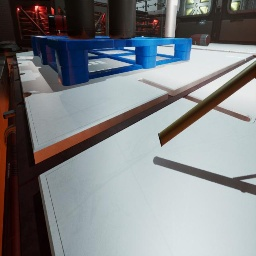0: (164, 0, 178, 38), (107, 0, 109, 37), (141, 36, 145, 37)
FireExtinguisher ]: (48, 14, 68, 36), (189, 38, 192, 44)
FirstAidBox ,: (145, 10, 147, 12)
NitrogenTank ,: (64, 0, 96, 39), (108, 0, 133, 39), (190, 34, 210, 46), (132, 0, 136, 38), (95, 31, 96, 32)
